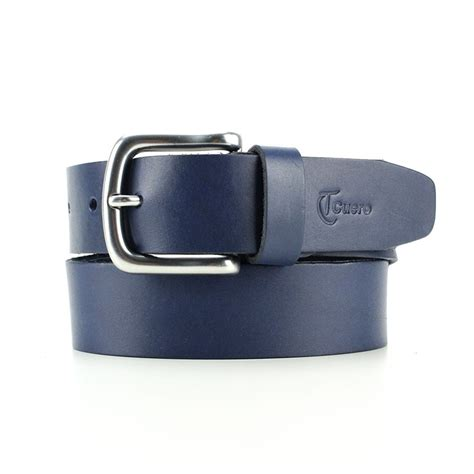cuero: (66, 143, 437, 361)
